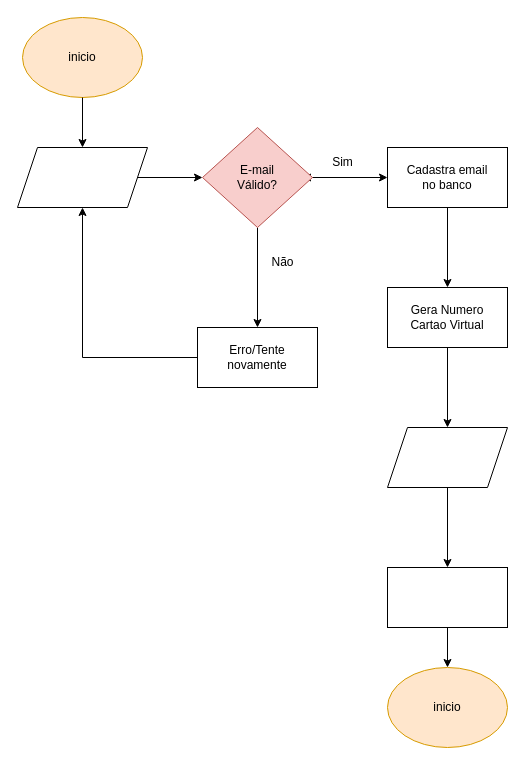
Image size: 525x765. Some labels were removed from this diagram. The shapes that lost their labels are listed below. From the top down, each one's box as (x1, y1, x2, y2) in pixels, then its label:
(16, 146, 148, 208): Cadastrar E-mail
(386, 426, 508, 488): Buscar Cartao
(386, 566, 508, 628): Numero do cartao
